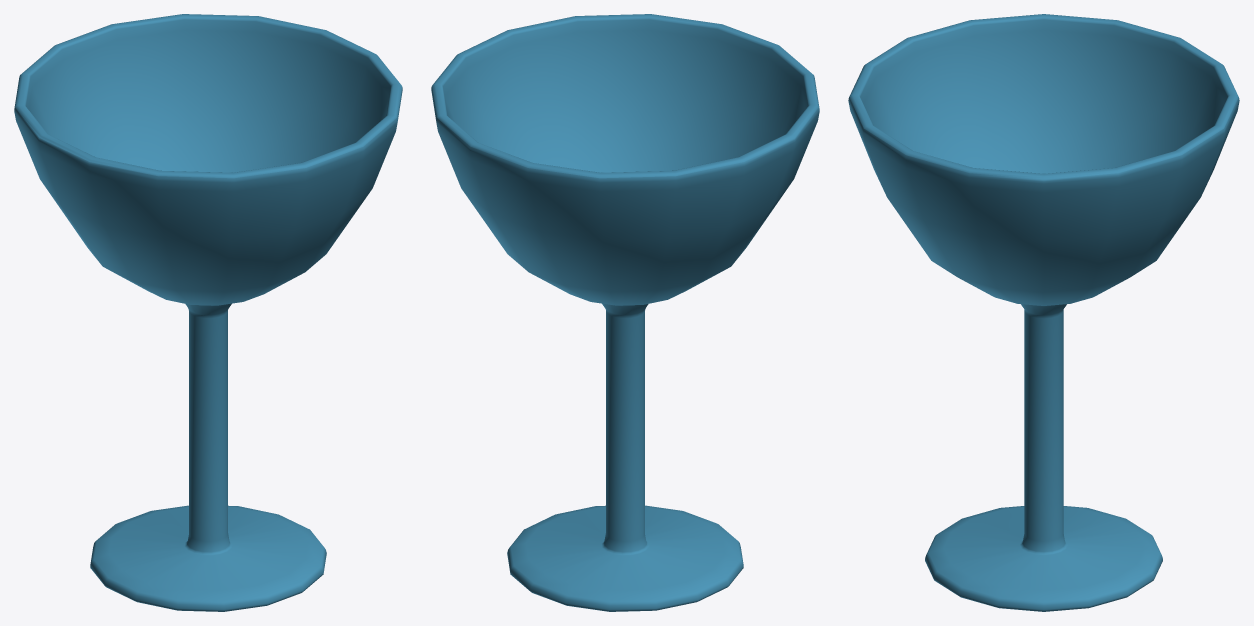
Rendered from Glass_Coupe.fbx.
The picture shows the model from 3 angles, left to right: view 1: azimuth 30°, elevation 25°; view 2: azimuth 150°, elevation 25°; view 3: azimuth 270°, elevation 25°; orthographic projection.
Parts seen in each view (by area): view 1: Coupe_Glass; view 2: Coupe_Glass; view 3: Coupe_Glass.
Boxes of the visible parts, <box> form: Coupe_Glass: <box>14,14,402,611</box>; Coupe_Glass: <box>431,14,819,611</box>; Coupe_Glass: <box>848,14,1239,611</box>.
Size of the model in its own units: 0.0898 by 0.12 by 0.0898.
